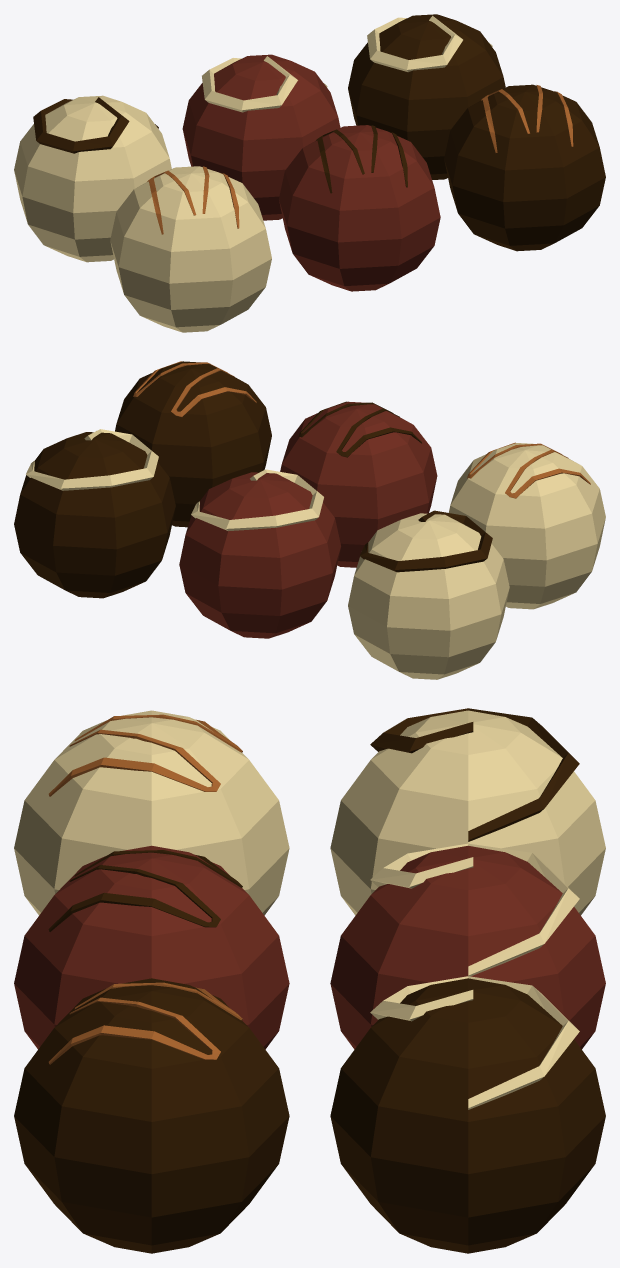
File: aobox-transformed.glb
The picture shows the model from 3 angles, top to bottom: view 1: azimuth 30°, elevation 25°; view 2: azimuth 150°, elevation 25°; view 3: azimuth 270°, elevation 25°; orthographic projection. The views are drawn at different scales.
Parts seen in each view (by area): view 1: chocolate2, chocolate3, chocolate5, chocolate1, chocolate4, chocolate6; view 2: chocolate1, chocolate4, chocolate6, chocolate2, chocolate3, chocolate5; view 3: chocolate6, chocolate5, chocolate1, chocolate2, chocolate4, chocolate3.
Part boxes in pixels (x1=…): chocolate2: x1=110, y1=166, x2=271, y2=332; chocolate3: x1=279, y1=125, x2=440, y2=291; chocolate5: x1=444, y1=84, x2=605, y2=251; chocolate1: x1=14, y1=95, x2=171, y2=262; chocolate4: x1=182, y1=54, x2=340, y2=220; chocolate6: x1=348, y1=14, x2=505, y2=179; chocolate1: x1=348, y1=510, x2=509, y2=679; chocolate4: x1=179, y1=469, x2=340, y2=638; chocolate6: x1=14, y1=429, x2=175, y2=598; chocolate2: x1=448, y1=442, x2=605, y2=609; chocolate3: x1=280, y1=401, x2=437, y2=567; chocolate5: x1=115, y1=361, x2=271, y2=527; chocolate6: x1=330, y1=976, x2=605, y2=1253; chocolate5: x1=14, y1=978, x2=289, y2=1253; chocolate1: x1=330, y1=708, x2=605, y2=915; chocolate2: x1=14, y1=710, x2=289, y2=915; chocolate4: x1=330, y1=843, x2=605, y2=1049; chocolate3: x1=14, y1=845, x2=289, y2=1049.
Size of the model in its own units: 0.066 by 0.0205 by 0.043.
